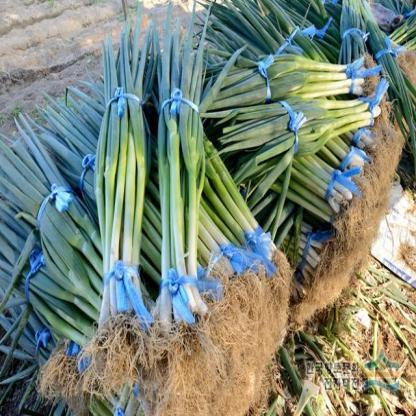green onion: (154, 14, 210, 394), (102, 11, 146, 387), (212, 56, 390, 94), (234, 102, 399, 138)
